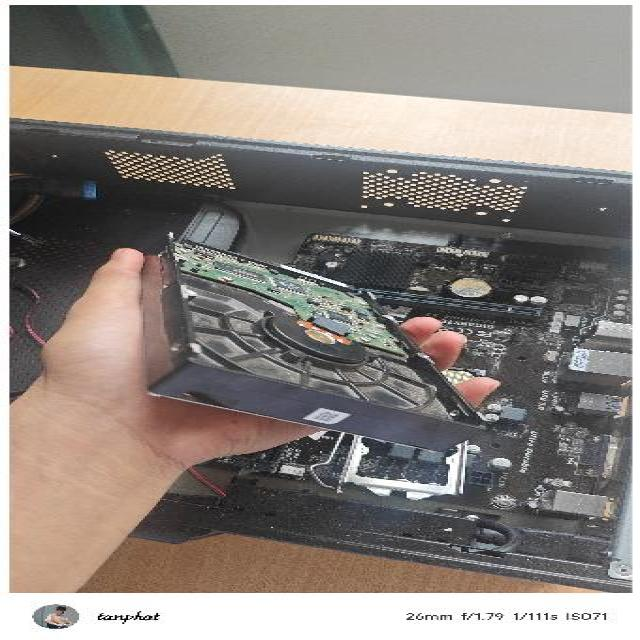DISK: (130, 228, 502, 454)
